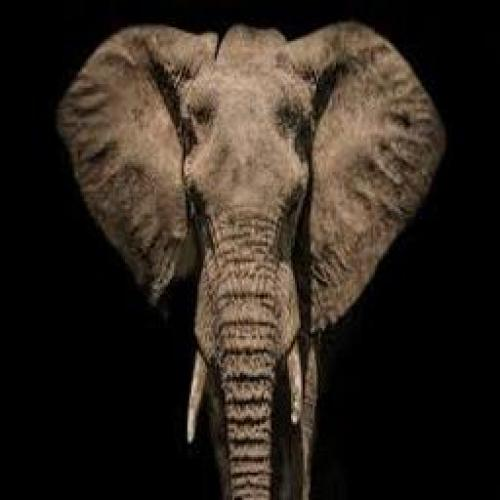african_elephant-endangered: (42, 4, 477, 494)
